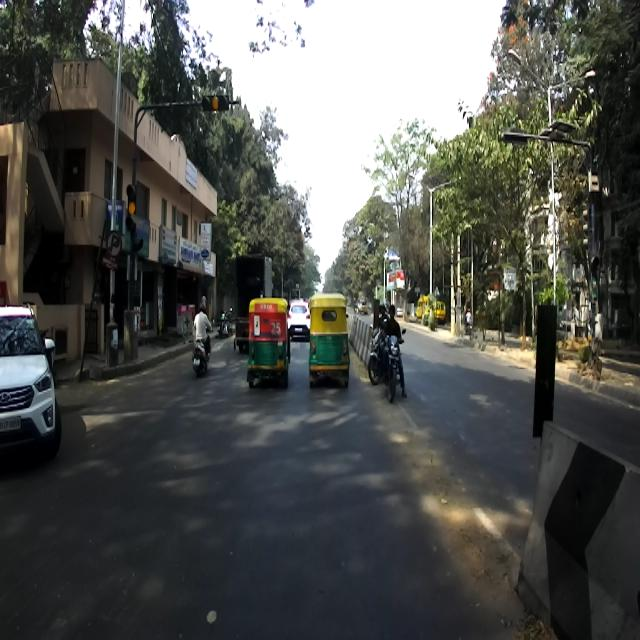auto ahead at: (248, 292, 288, 389), (308, 296, 349, 380)
car ahead at: (0, 303, 64, 466)
traffic signal ahead at: (121, 175, 143, 249)
